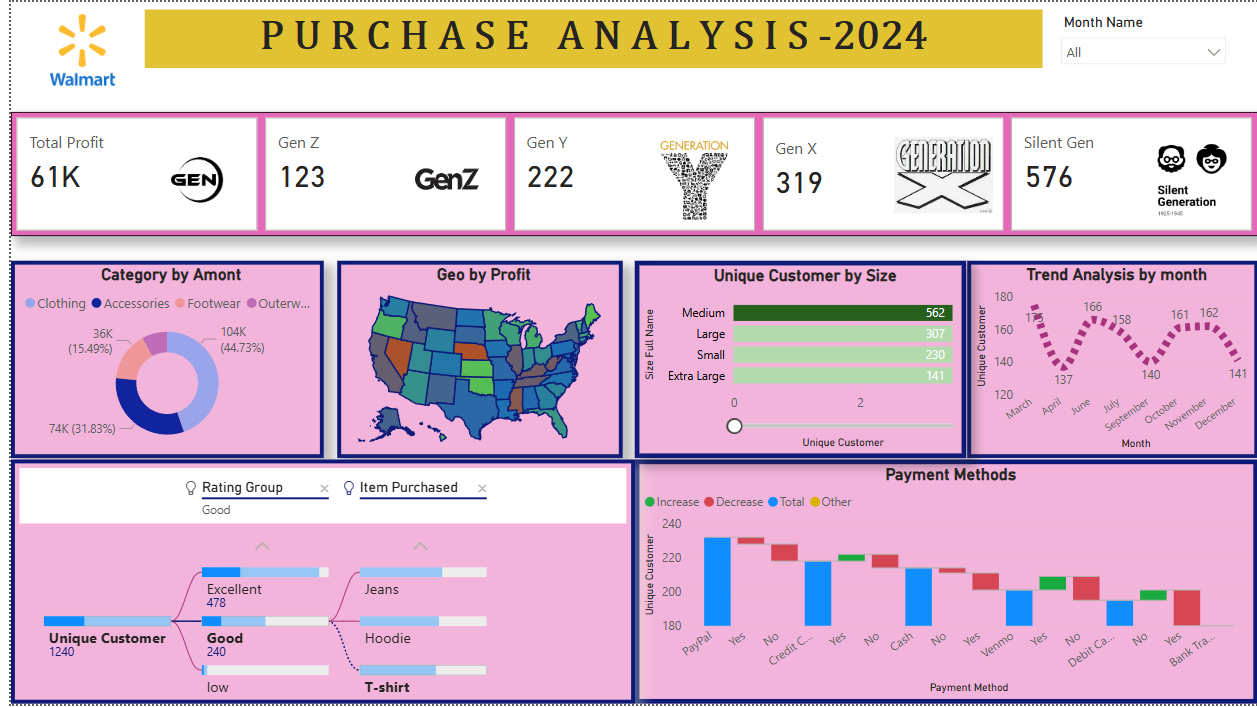

The dashboard page shown, as its layout file describes it:
{"tool":"powerbi","page":{"name":"Purchase Analysis","canvas":[1280,720],"ordinal":0},"visuals":[{"type":"cardVisual","fields":{"Data":["Category_Master.Total Profit","Category_Master.Gen Z","Category_Master.Gen Y","Category_Master.Gen X","Category_Master.Silent Gen"]},"box":[0,113.4,1279.1,126.9],"z":0},{"type":"image","box":[10.4,0,125.4,98.5],"z":1000},{"type":"textbox","box":[136.6,7.3,920.7,59.8],"z":2000},{"type":"lineChart","title":"Trend Analysis by month","fields":{"Y":["Category_Master.Unique Customer"],"Category":["Date_Master.Date.Variation.Date Hierarchy.Month"]},"box":[980.5,265.9,298.8,202.4],"z":3000},{"type":"shapeMap","title":"Geo by Profit","fields":{"Category":["Location_Master.State_Name"],"Value":["Sum(Raw_Data.Profit)"]},"box":[334.1,265.9,292.7,202.4],"z":4000},{"type":"donutChart","title":"Category by Amont","fields":{"Category":["Category_Master.Category_Name"],"Y":["Sum(Raw_Data.Purchase Amount (USD))"]},"box":[0,265.9,320.7,202.4],"z":5000},{"type":"waterfallChart","title":"Payment Methods","fields":{"Category":["Payment_Master.Payment Method"],"Y":["Category_Master.Unique Customer"],"Breakdown":["Payment_Master.Promo Code Used"]},"box":[640.3,468.7,638.8,250.7],"z":6000},{"type":"clusteredColumnChart","title":"Unique Customer by Size","fields":{"Category":["Size_Color_Master.Size Full Name"],"Y":["Category_Master.Unique Customer"]},"box":[640.2,265.9,340.2,202.4],"z":7000},{"type":"decompositionTreeVisual","fields":{"ExplainBy":["Item_Master.Item Purchased","Rating_Master.Rating Group"],"Analyze":["Category_Master.Unique Customer"]},"box":[0,468.7,640.3,250.7],"z":8000},{"type":"slicer","fields":{"Values":["Date_Master.Month Name"]},"box":[1067.2,7.5,189.6,71.6],"z":9000},{"type":"textbox","box":[1173.9,66.4,106.2,47.1],"z":9001}]}

Visuals, with their boxes in screenshot pixels (x1, y1, x2, y2), scaled from the page's 1280x720 canvas onto the 1257x707 screenshot:
cardVisual - Category_Master.Total Profit x Category_Master.Gen Z: x1=0, y1=111, x2=1256, y2=236
image: x1=10, y1=0, x2=133, y2=97
textbox: x1=134, y1=7, x2=1038, y2=66
"Trend Analysis by month" lineChart: x1=963, y1=261, x2=1256, y2=460
"Geo by Profit" shapeMap: x1=328, y1=261, x2=616, y2=460
"Category by Amont" donutChart: x1=0, y1=261, x2=315, y2=460
"Payment Methods" waterfallChart: x1=629, y1=460, x2=1256, y2=706
"Unique Customer by Size" clusteredColumnChart: x1=629, y1=261, x2=963, y2=460
decompositionTreeVisual - Item_Master.Item Purchased x Rating_Master.Rating Group: x1=0, y1=460, x2=629, y2=706
slicer - Date_Master.Month Name: x1=1048, y1=7, x2=1234, y2=78
textbox: x1=1153, y1=65, x2=1256, y2=111
